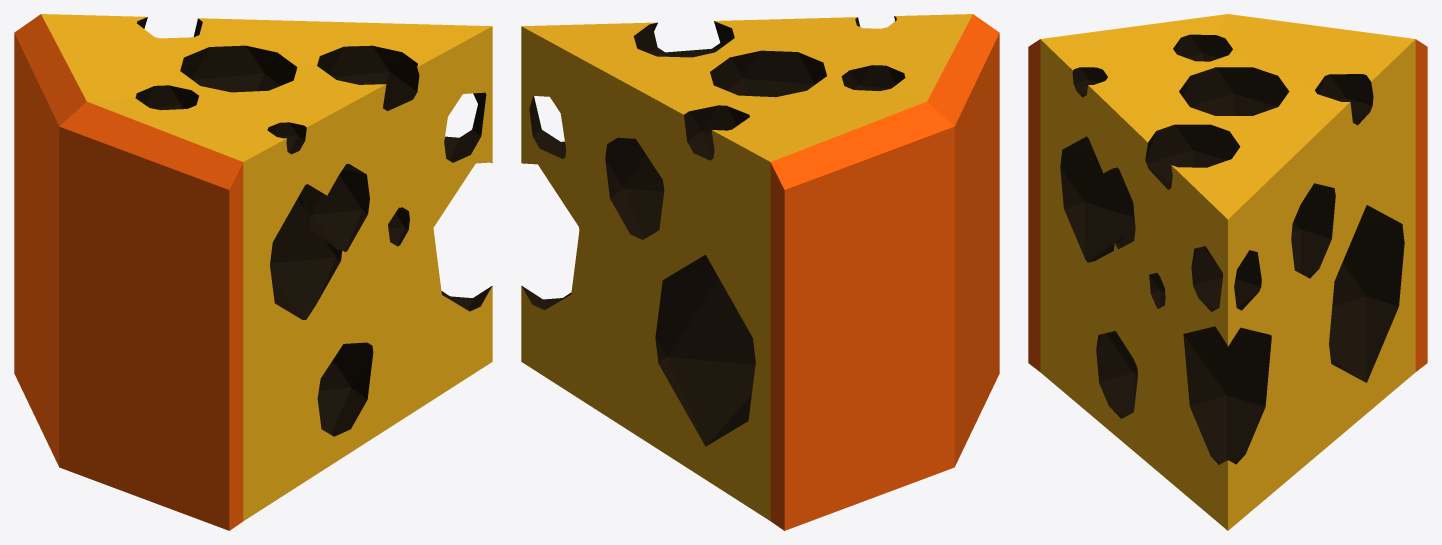
The model's file is cheese.obj.
3 views of the same model, side by side, from view 1: azimuth 30°, elevation 25°; view 2: azimuth 150°, elevation 25°; view 3: azimuth 270°, elevation 25° (orthographic). The views are drawn at different scales.
Parts seen in each view (by area): view 1: Cheese; view 2: Cheese; view 3: Cheese.
Boxes of the visible parts, x1,y1,x2,y2 form: Cheese: [14, 14, 492, 530]; Cheese: [521, 14, 999, 530]; Cheese: [1028, 14, 1427, 530].
Size of the model in its own units: 2.47 by 1.96 by 2.13.
